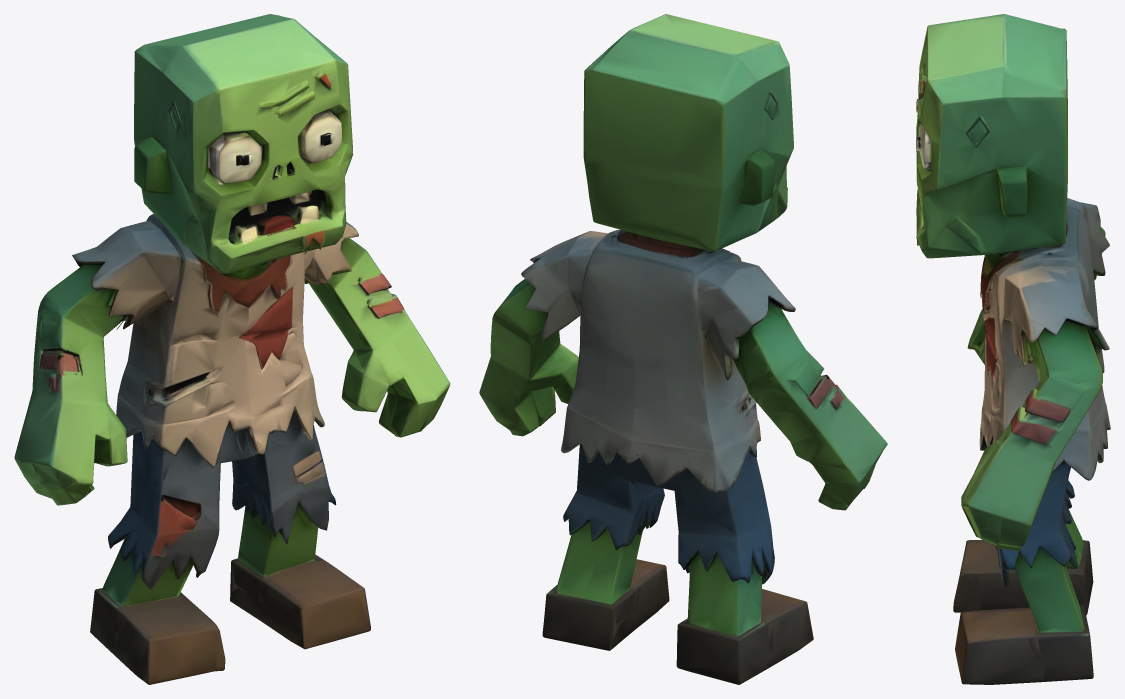
The model's file is zombie.glb.
3 views of the same model, side by side, from view 1: azimuth 30°, elevation 25°; view 2: azimuth 150°, elevation 25°; view 3: azimuth 270°, elevation 25° (orthographic). The views are drawn at different scales.
Visible parts, largest first — view 1: node_0; view 2: node_0; view 3: node_0.
Part boxes in pixels (x1,y1,x2,y2): node_0: (14, 14, 450, 684); node_0: (479, 14, 887, 684); node_0: (916, 14, 1110, 684).
Bounding box in the file's own units: 0.7671 × 1.11 × 0.3308.
Materials: 1 (1 with a texture image).
